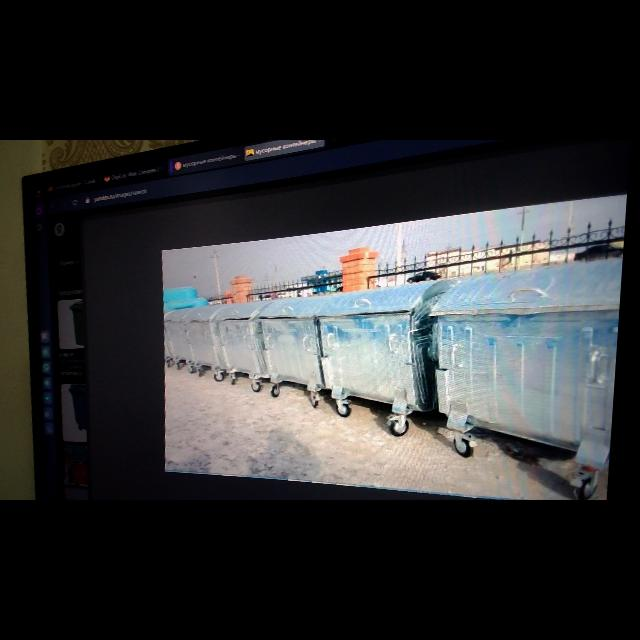Trash_Can_Closed: (427, 257, 627, 457), (315, 277, 454, 411), (217, 300, 284, 379), (166, 307, 204, 363)
